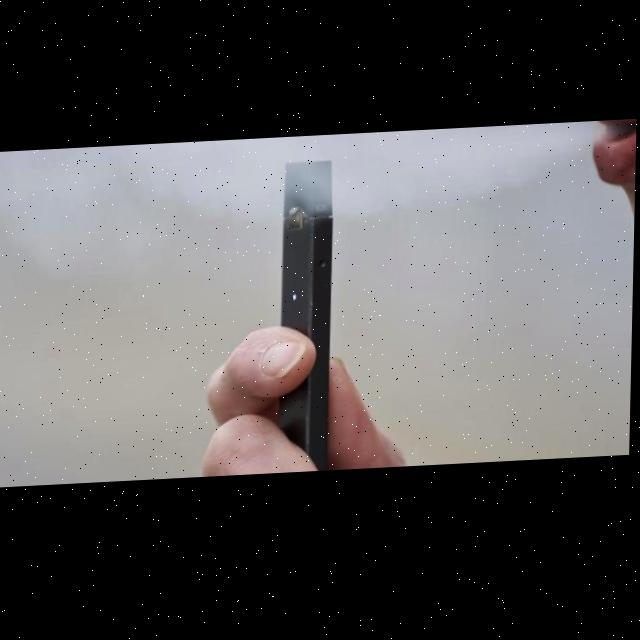vape: (277, 162, 337, 476)
